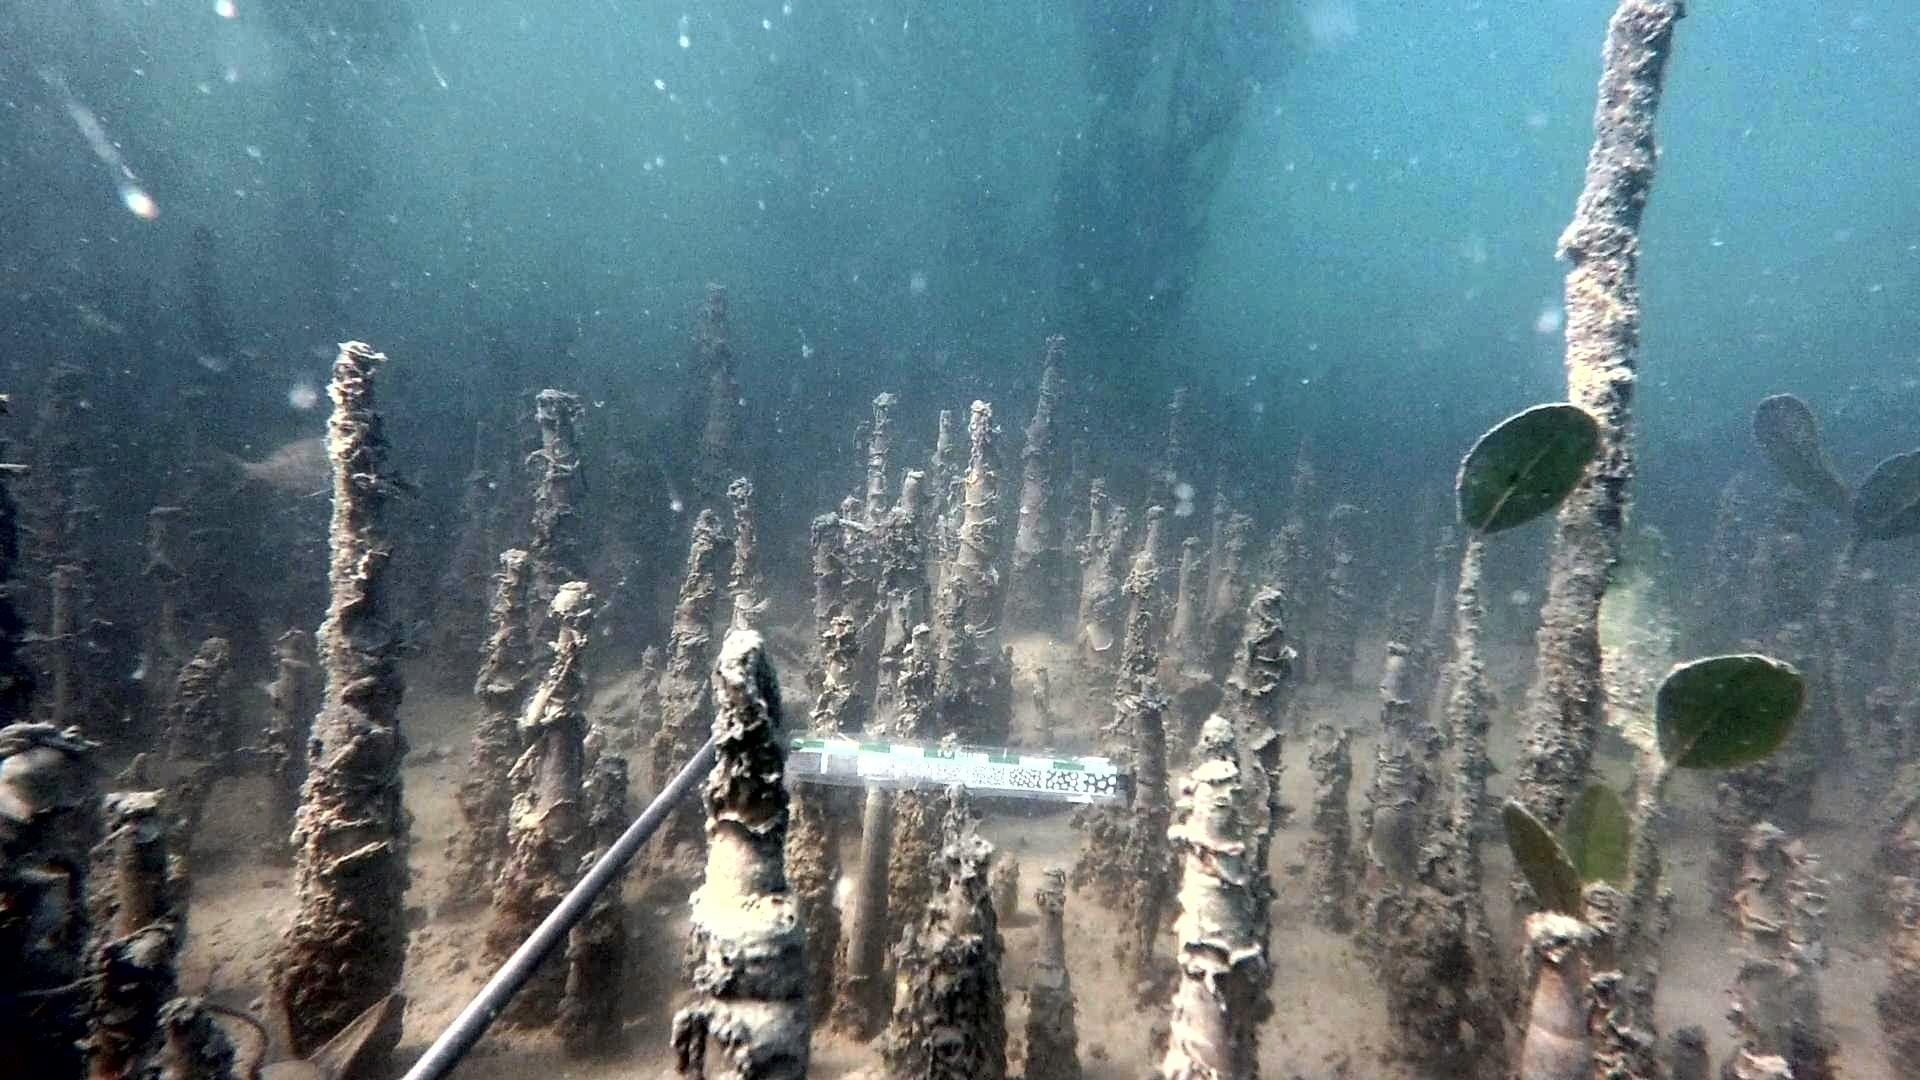gerres: (204, 418, 330, 504)
